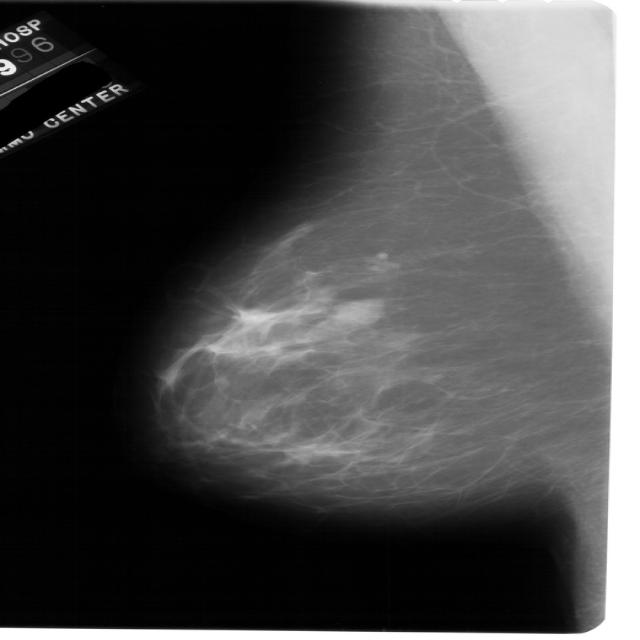tumour: (334, 297, 381, 324)
